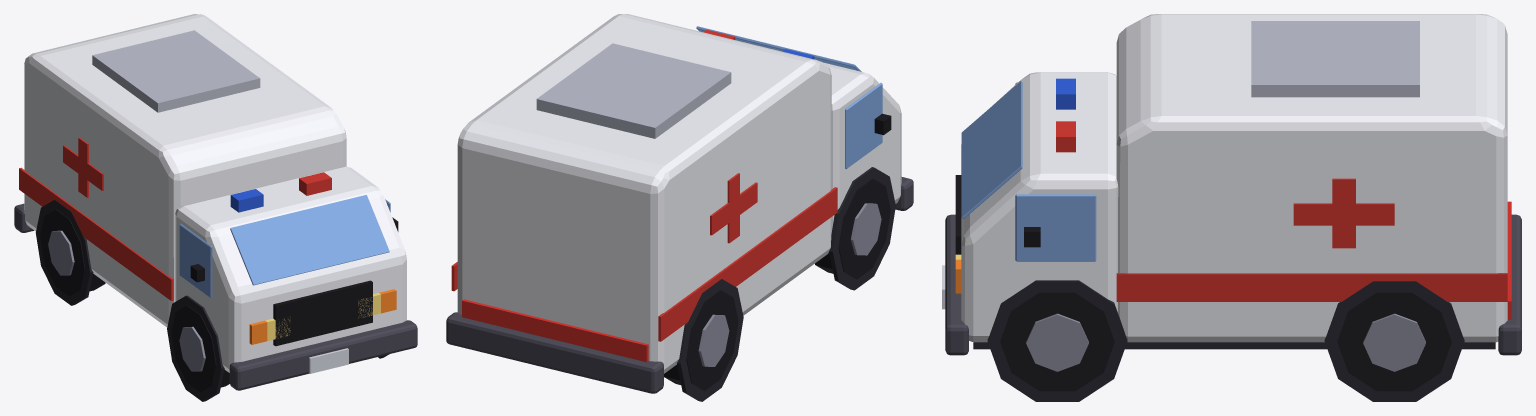
Rendered from ambulance.glb.
The picture shows the model from 3 angles, left to right: view 1: azimuth 30°, elevation 25°; view 2: azimuth 150°, elevation 25°; view 3: azimuth 270°, elevation 25°; orthographic projection. The views are drawn at different scales.
Parts seen in each view (by area): view 1: Ambulance; view 2: Ambulance; view 3: Ambulance.
Part boxes in pixels (x1=…): Ambulance: x1=14, y1=14, x2=417, y2=401; Ambulance: x1=446, y1=14, x2=913, y2=401; Ambulance: x1=942, y1=14, x2=1521, y2=401.
Bounding box in the file's own units: 1.77 × 1.91 × 3.44.
Materials: 1 (1 with a texture image).
